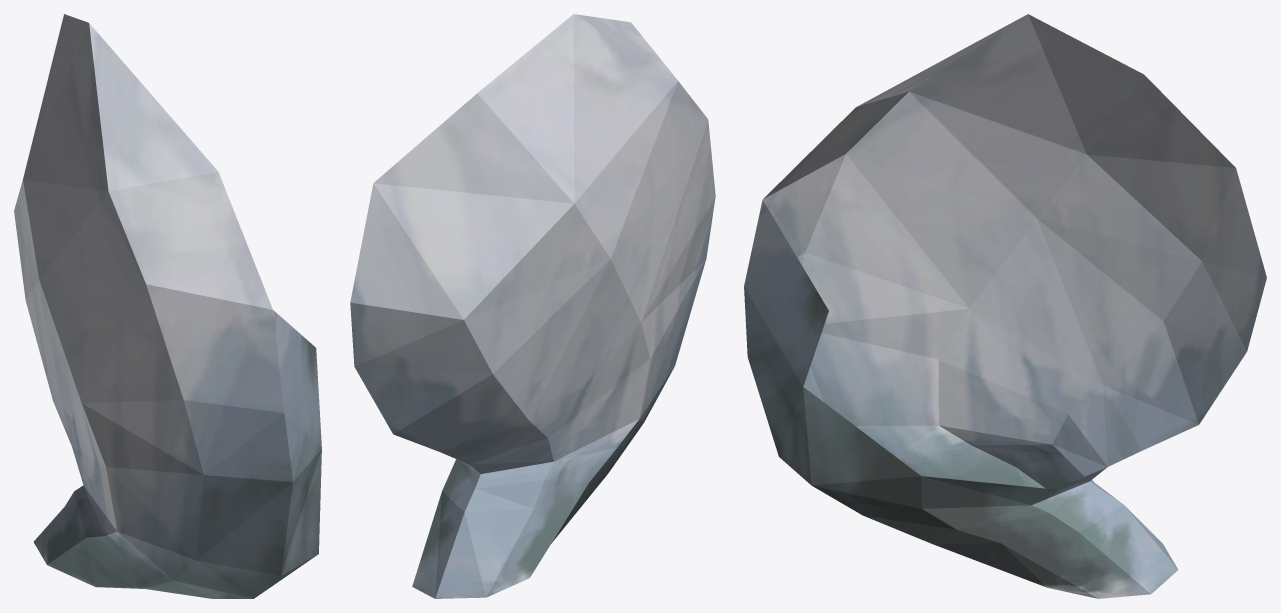
File: Pata1_Trasera_Der.obj
3 views of the same model, side by side, from view 1: azimuth 30°, elevation 25°; view 2: azimuth 150°, elevation 25°; view 3: azimuth 270°, elevation 25° (orthographic). The views are drawn at different scales.
Parts seen in each view (by area): view 1: Pata1_Trasera_DerConejo; view 2: Pata1_Trasera_DerConejo; view 3: Pata1_Trasera_DerConejo.
Boxes of the visible parts, <box> form: Pata1_Trasera_DerConejo: <box>14,14,321,598</box>; Pata1_Trasera_DerConejo: <box>350,14,715,598</box>; Pata1_Trasera_DerConejo: <box>744,14,1266,598</box>.
Size of the model in its own units: 0.0448 by 0.137 by 0.1216.
1 material, 1 textured.
